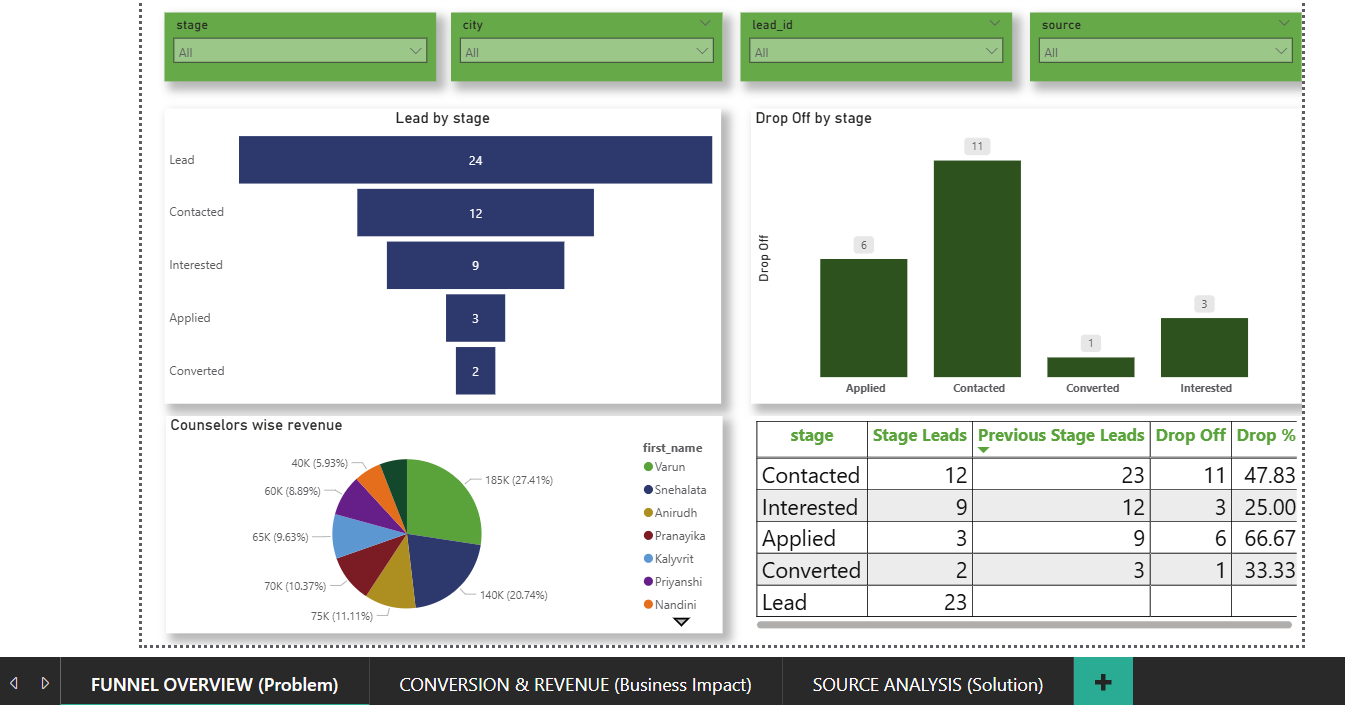

What the dashboard file says about the page in this screenshot:
{"tool":"powerbi","page":{"name":"FUNNEL OVERVIEW (Problem)","canvas":[1280,720],"ordinal":0},"visuals":[{"type":"funnel","title":"Lead by stage","fields":{"Y":["CountNonNull(public funnel.lead_id)"],"Category":["public funnel.stage"]},"box":[24.8,127.5,614.6,326.3],"z":0},{"type":"clusteredColumnChart","fields":{"Category":["funnel.stage"],"Y":["funnel.Drop Off"]},"box":[672.5,127.5,607.9,326.3],"z":1000},{"type":"tableEx","fields":{"Values":["funnel.stage","funnel.Stage Leads","funnel.Previous Stage Leads","funnel.Drop Off","funnel.Drop %"]},"box":[672.5,467.1,607.9,240.2],"z":2000},{"type":"pieChart","title":"Counselors wise revenue","fields":{"Category":["counselors.first_name"],"Y":["Sum(conversions.revenue)"]},"box":[26.5,467.1,614.6,240.2],"z":3000},{"type":"slicer","fields":{"Values":["funnel.stage"]},"box":[24.8,21.5,299.8,76.2],"z":4000},{"type":"slicer","fields":{"Values":["leads.city"]},"box":[341.2,21.5,299.8,76.2],"z":5000},{"type":"slicer","fields":{"Values":["leads.lead_id"]},"box":[660.9,21.5,299.8,76.2],"z":6000},{"type":"slicer","fields":{"Values":["leads.source"]},"box":[980.6,21.5,299.8,76.2],"z":7000}]}

Visuals, with their boxes on the page's 1280x720 design canvas (x1, y1, x2, y2). These are canvas units, not pixel positions in the 1345x705 screenshot, which may show the page scaled, cropped or inside an application window:
"Lead by stage" funnel: <bbox>25, 128, 639, 454</bbox>
clusteredColumnChart - funnel.stage x funnel.Drop Off: <bbox>672, 128, 1280, 454</bbox>
tableEx - funnel.stage x funnel.Stage Leads: <bbox>672, 467, 1280, 707</bbox>
"Counselors wise revenue" pieChart: <bbox>26, 467, 641, 707</bbox>
slicer - funnel.stage: <bbox>25, 22, 325, 98</bbox>
slicer - leads.city: <bbox>341, 22, 641, 98</bbox>
slicer - leads.lead_id: <bbox>661, 22, 961, 98</bbox>
slicer - leads.source: <bbox>981, 22, 1280, 98</bbox>
